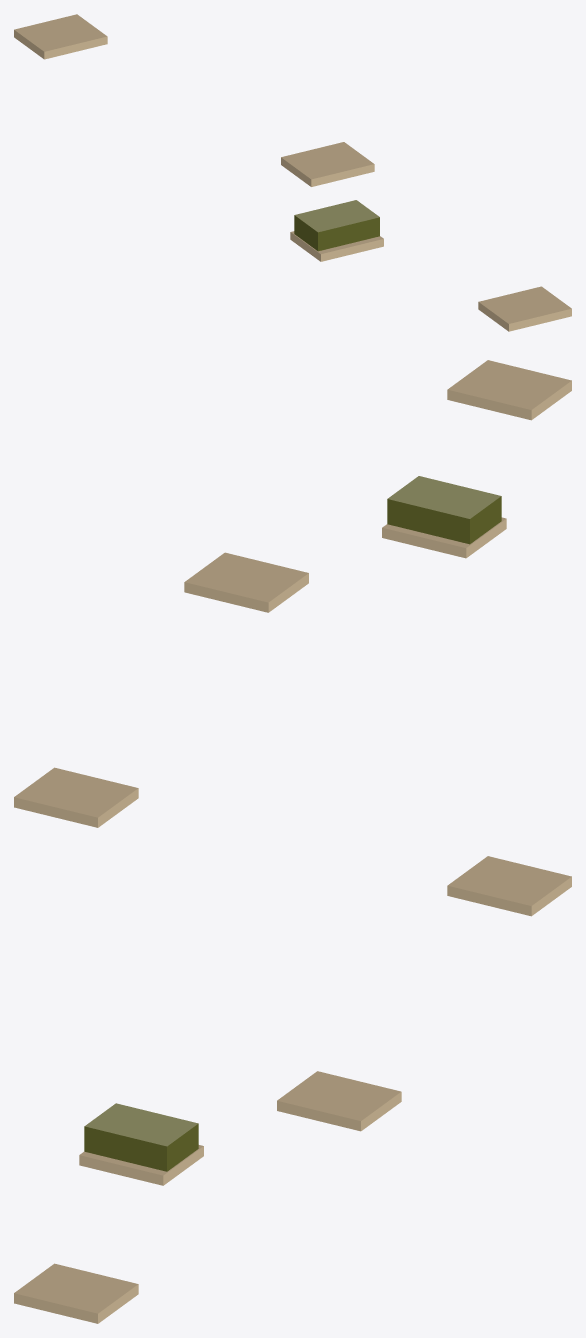
Rendered from SM_CargaMunicion_Vacio_LOD1.fbx.
3 views of the same model, one above another, from view 1: azimuth 30°, elevation 25°; view 2: azimuth 150°, elevation 25°; view 3: azimuth 330°, elevation 25° (orthographic). The views are drawn at different scales.
Visible parts, largest first — view 1: SM_carga_vagon_v2_LOD1; view 2: SM_carga_vagon_v2_LOD1; view 3: SM_carga_vagon_v2_LOD1.
Boxes of the visible parts, bbox=[...] form: SM_carga_vagon_v2_LOD1: bbox=[14, 14, 571, 331]; SM_carga_vagon_v2_LOD1: bbox=[14, 360, 571, 827]; SM_carga_vagon_v2_LOD1: bbox=[14, 856, 571, 1323].
Size of the model in its own units: 2.52 by 0.49 by 14.
